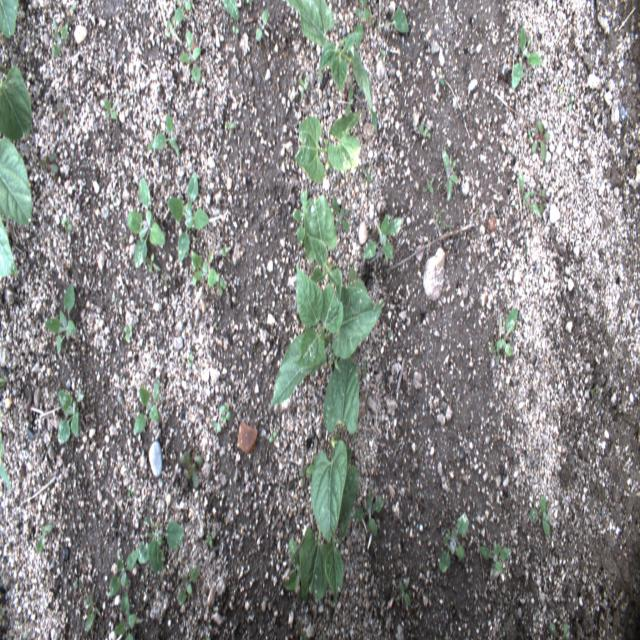crop: (280, 365, 360, 610), (270, 274, 387, 408), (288, 1, 376, 123), (0, 64, 35, 280), (292, 111, 363, 189), (304, 197, 344, 295), (1, 0, 20, 37)
weed: (166, 170, 213, 266), (126, 174, 167, 272), (136, 521, 188, 582), (108, 554, 139, 637), (44, 281, 78, 355), (362, 212, 406, 264), (510, 24, 543, 90), (438, 513, 471, 578), (52, 389, 84, 454), (176, 26, 205, 93), (147, 106, 180, 164), (438, 142, 464, 213), (130, 382, 161, 439), (486, 306, 518, 360), (480, 538, 515, 585), (190, 251, 230, 292), (358, 482, 386, 539), (518, 176, 552, 222), (172, 562, 200, 614), (180, 449, 206, 499), (531, 116, 554, 161), (382, 2, 413, 33), (529, 494, 551, 537), (294, 188, 310, 245), (81, 589, 101, 634), (208, 401, 232, 437), (1, 434, 14, 497), (34, 520, 54, 560), (167, 0, 192, 31), (334, 194, 353, 234), (52, 22, 70, 62), (101, 89, 120, 123), (36, 150, 60, 175), (55, 96, 70, 135), (397, 576, 413, 608), (257, 8, 272, 42), (415, 112, 432, 142), (220, 2, 240, 25), (59, 213, 74, 241), (122, 317, 134, 343), (221, 235, 230, 262), (186, 348, 197, 370), (426, 173, 436, 196), (224, 117, 239, 131)
